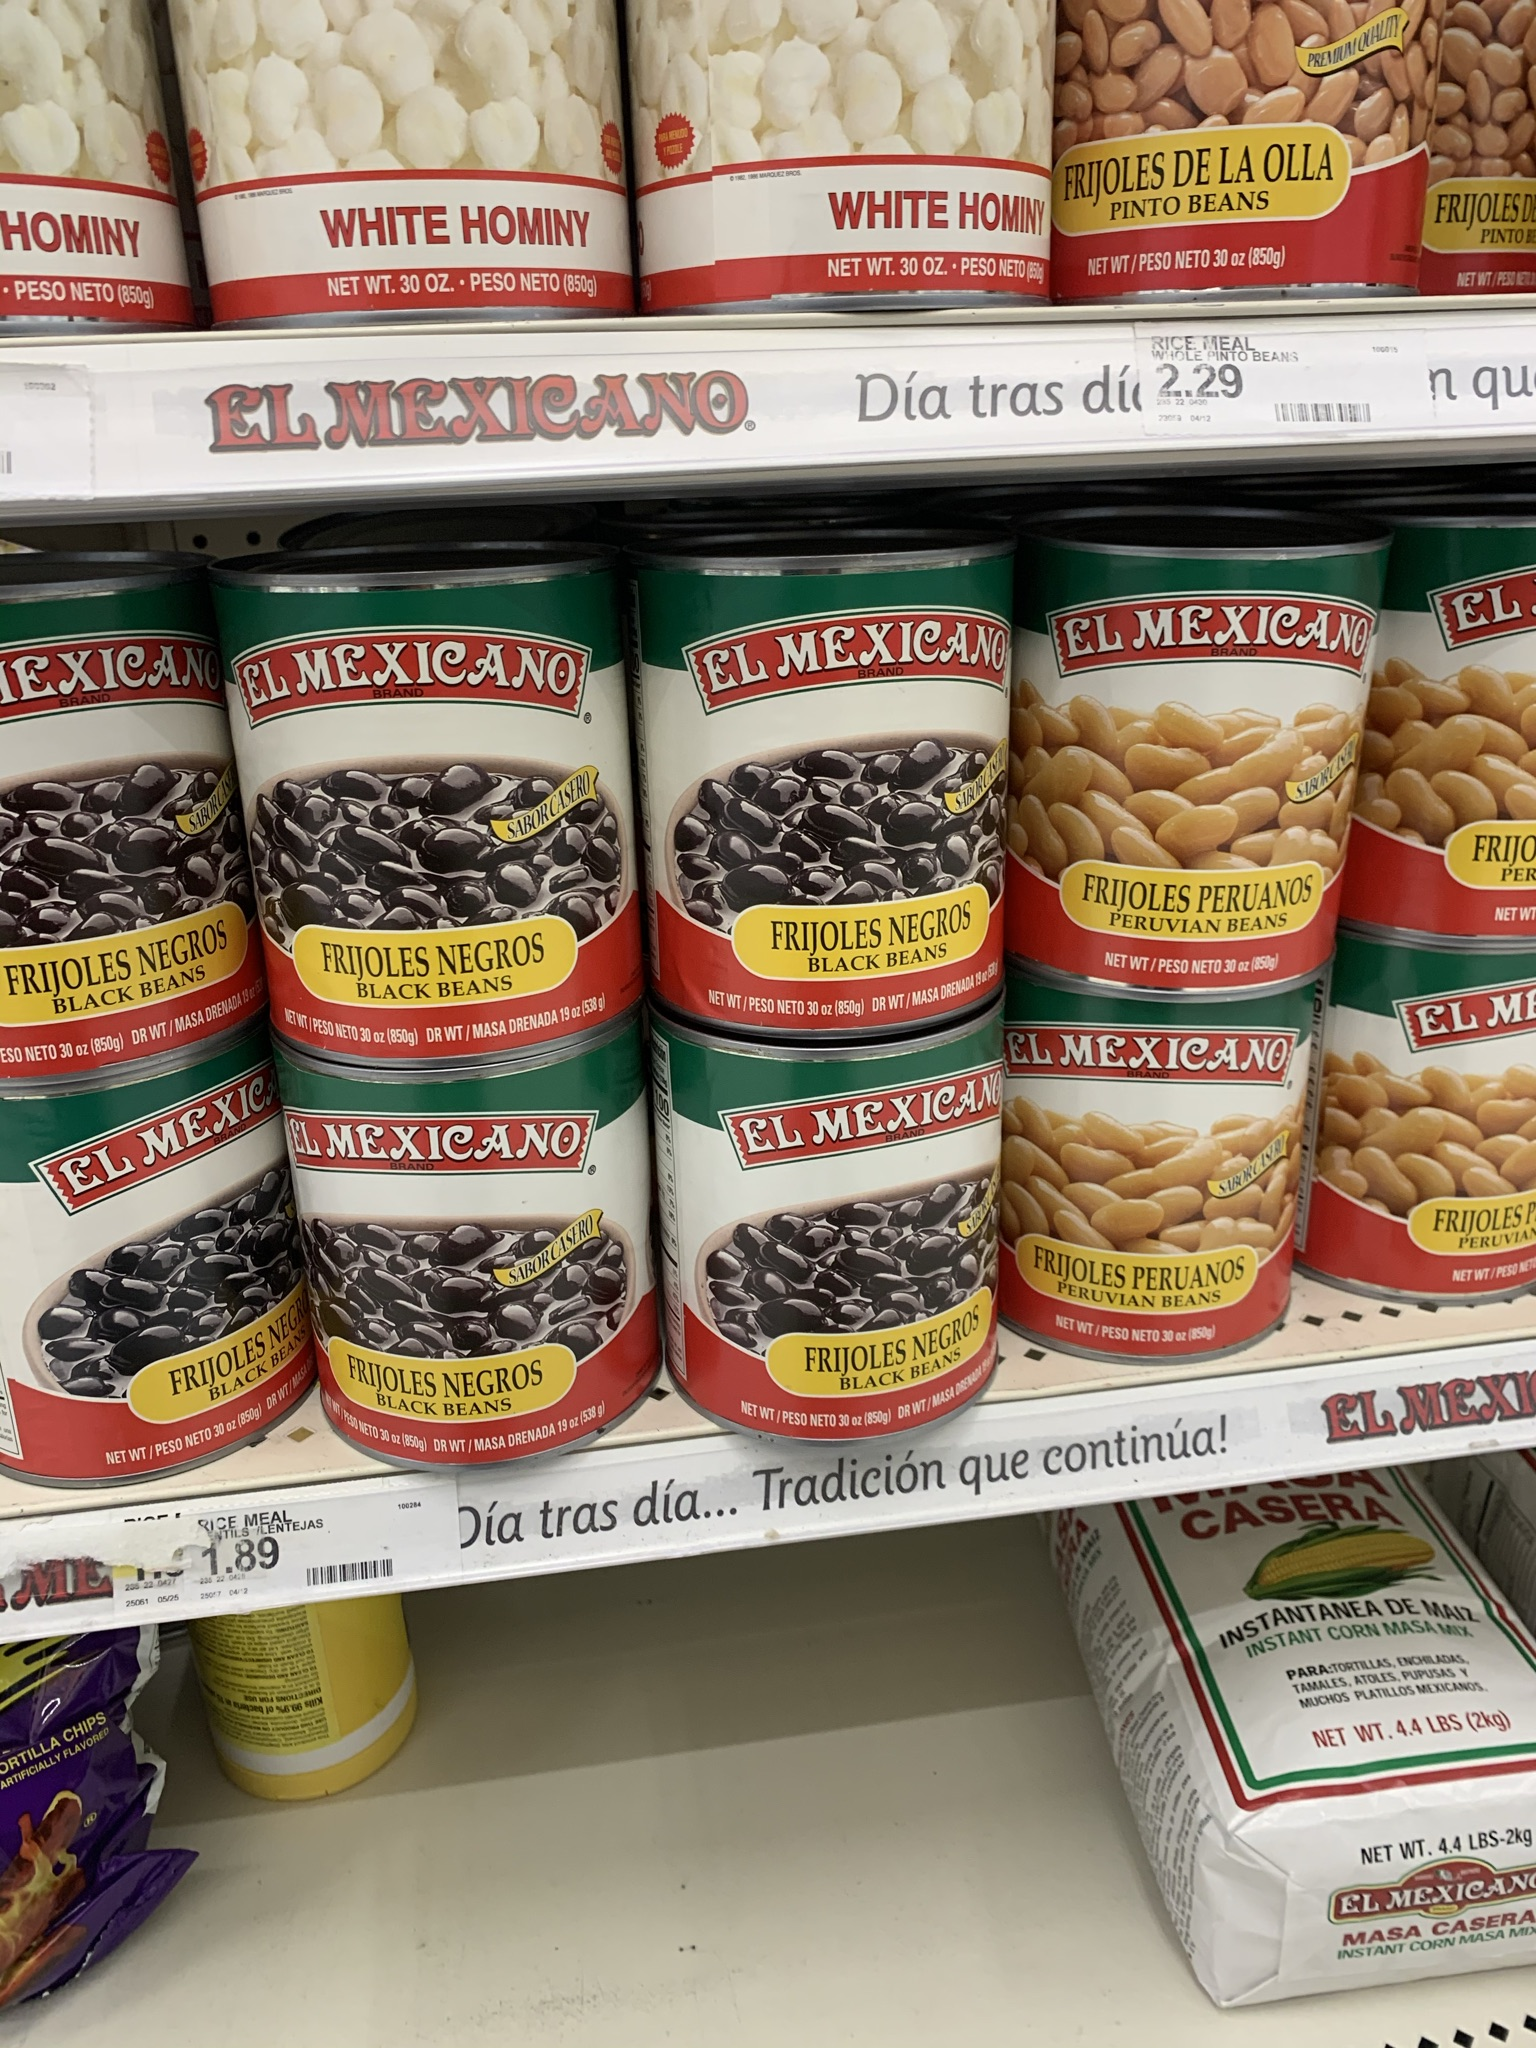can: (265, 569, 626, 1039), (673, 560, 1002, 1018), (1029, 560, 1339, 951), (686, 1053, 1007, 1417), (2, 568, 237, 1050), (318, 1080, 631, 1437), (1026, 992, 1318, 1338), (2, 1084, 273, 1455), (1355, 943, 1531, 1297)
